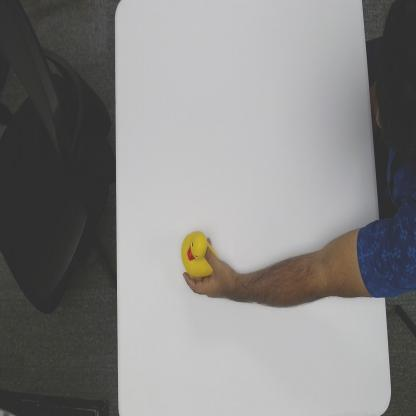Arm: (236, 226, 380, 308)
Duck: (180, 230, 221, 280)
Hand: (182, 247, 235, 300)
